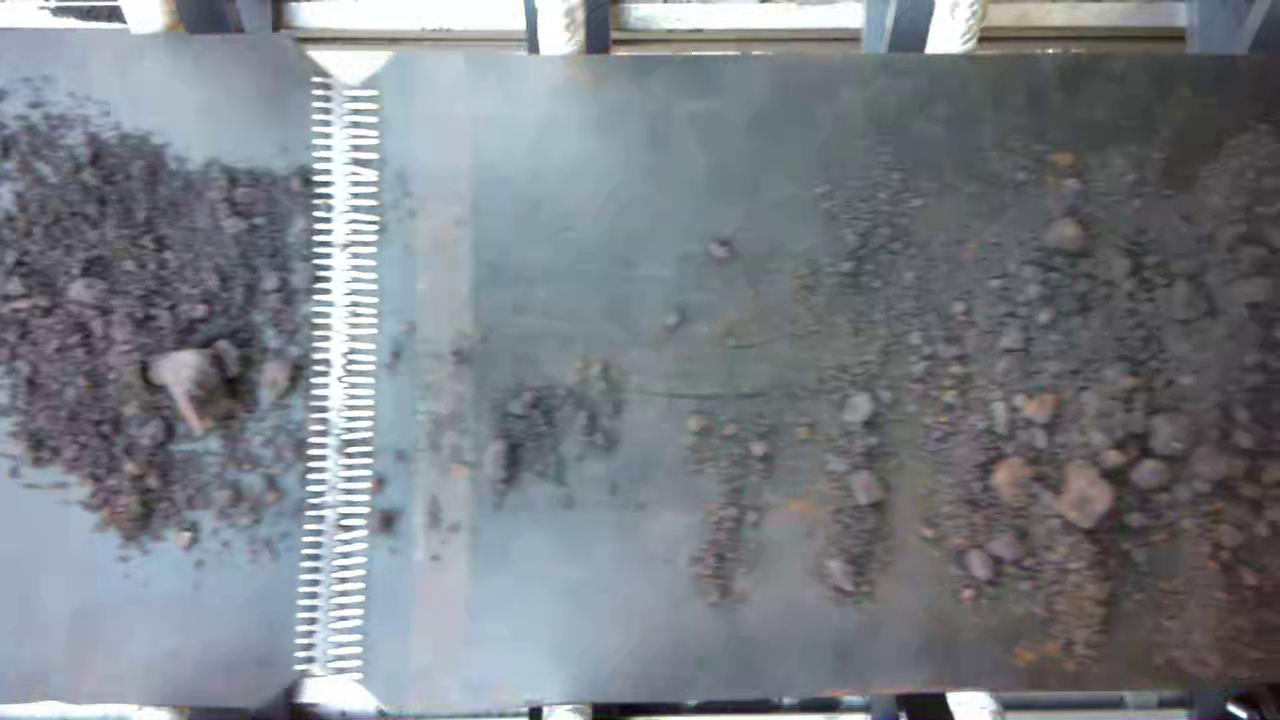conveyor: (8, 63, 1273, 667)
